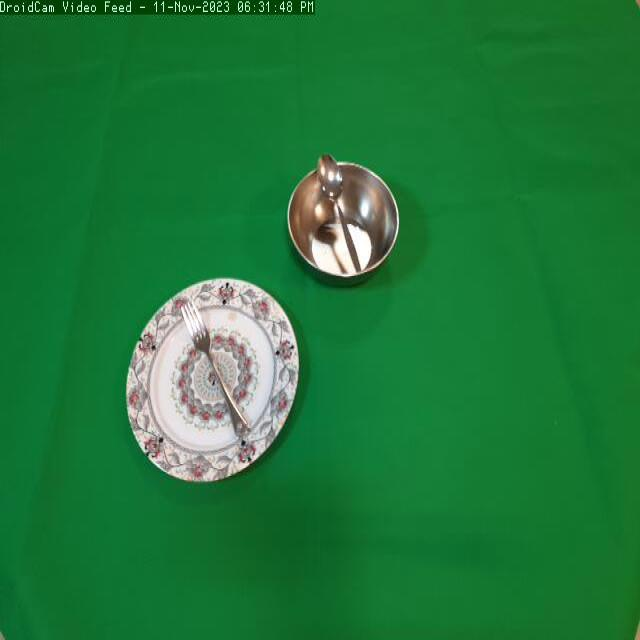bowl: (286, 152, 402, 279)
fork: (180, 287, 254, 438)
plate: (120, 276, 304, 504)
spoon: (316, 147, 371, 274)
